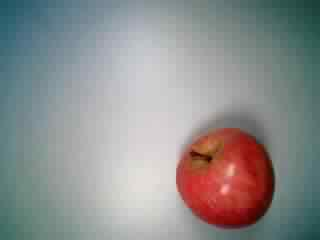apple: (174, 126, 278, 230)
